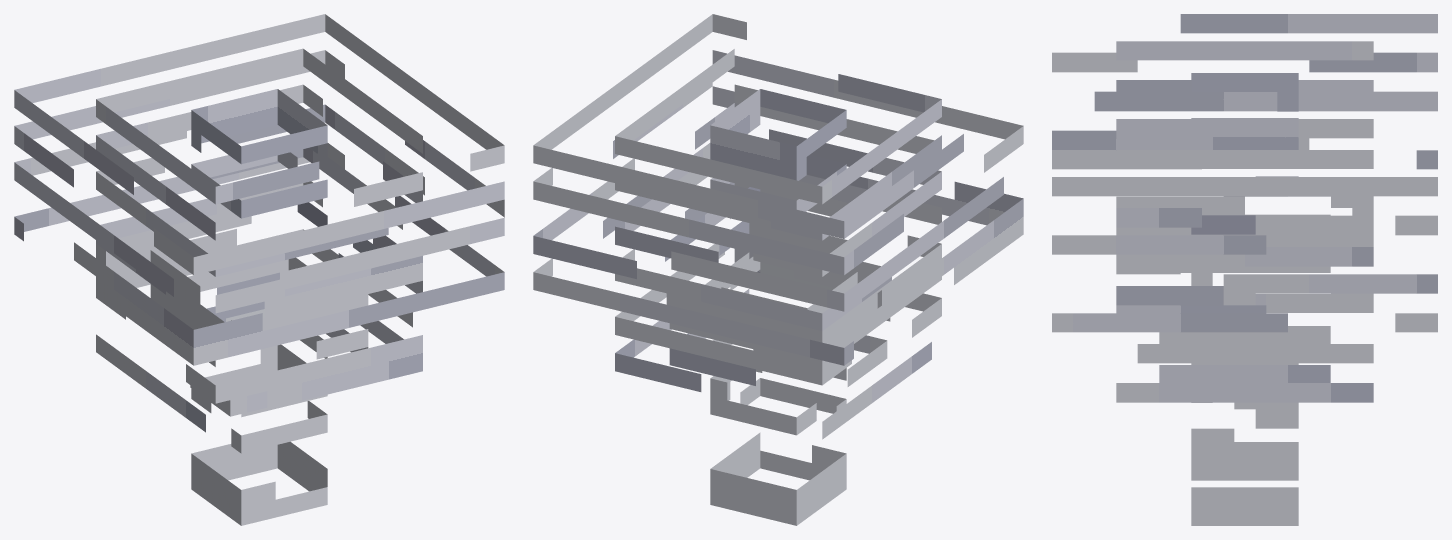
File: breeze_wind.gltf
The picture shows the model from 3 angles, left to right: view 1: azimuth 30°, elevation 25°; view 2: azimuth 150°, elevation 25°; view 3: azimuth 270°, elevation 25°; orthographic projection. The views are drawn at different scales.
Visible parts, largest first — view 1: wind_top (×3), wind_middle (×2), wind_bottom; view 2: wind_top (×3), wind_middle (×3), wind_bottom; view 3: wind_top (×3), wind_middle (×3), wind_bottom.
Boxes of the visible parts, x1=… form: wind_top (×3): x1=14, y1=14, x2=504, y2=365; wind_middle (×2): x1=96, y1=211, x2=422, y2=432; wind_bottom: x1=191, y1=344, x2=327, y2=525; wind_top (×3): x1=533, y1=14, x2=1023, y2=365; wind_middle (×3): x1=615, y1=213, x2=941, y2=439; wind_bottom: x1=710, y1=368, x2=846, y2=525; wind_top (×3): x1=1052, y1=14, x2=1437, y2=332; wind_middle (×3): x1=1116, y1=196, x2=1373, y2=402; wind_bottom: x1=1191, y1=402, x2=1298, y2=525.
Size of the model in its own units: 1.12 by 1.31 by 1.12.
Materials: 1 (1 with a texture image).
